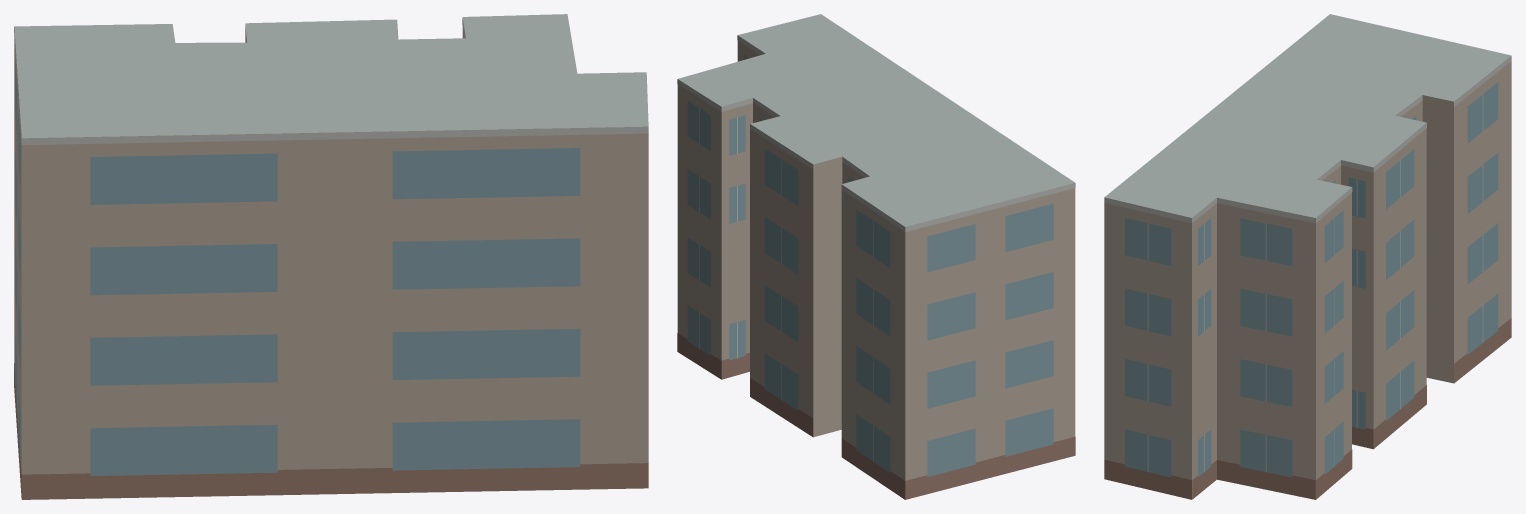
The model's file is survey-upis-32671427.glb.
The picture shows the model from 3 angles, left to right: view 1: azimuth 30°, elevation 25°; view 2: azimuth 150°, elevation 25°; view 3: azimuth 270°, elevation 25°; orthographic projection. The views are drawn at different scales.
Parts seen in each view (by area): view 1: survey-upis-32671427.tmp; view 2: survey-upis-32671427.tmp; view 3: survey-upis-32671427.tmp.
Part boxes in pixels (box(x1,y1,x2,y2)): survey-upis-32671427.tmp: box(14, 14, 648, 499); survey-upis-32671427.tmp: box(677, 14, 1075, 499); survey-upis-32671427.tmp: box(1104, 14, 1511, 499).
Size of the model in its own units: 19.89 by 12.8 by 16.78.
